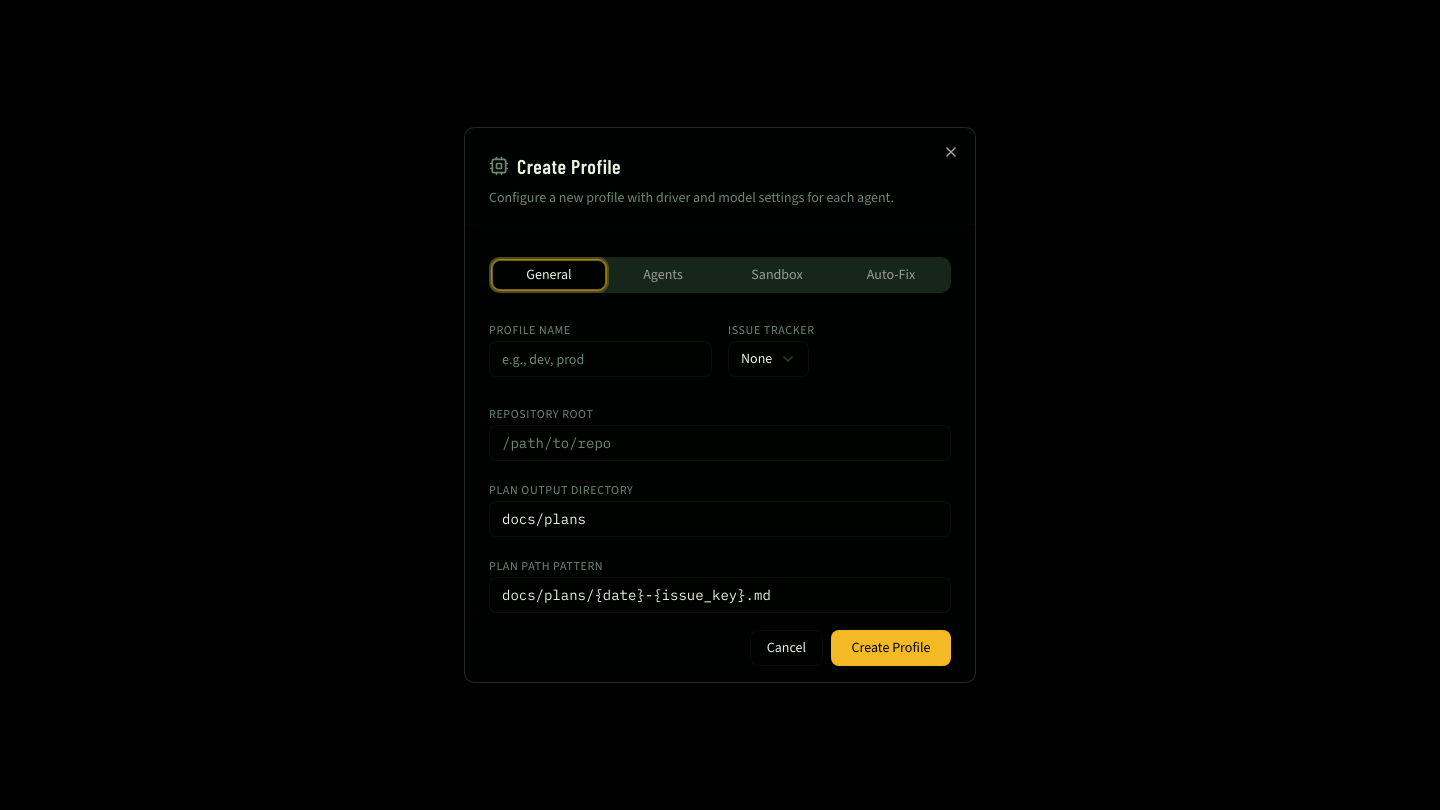
Test: Sandbox tab › should show sandbox mode dropdown defaulting to None
What coordinates should you click on to do the following:
click the tab "Sandbox"
I would click on:
 (777, 275)
Its box is x1=720 y1=260 x2=834 y2=290.
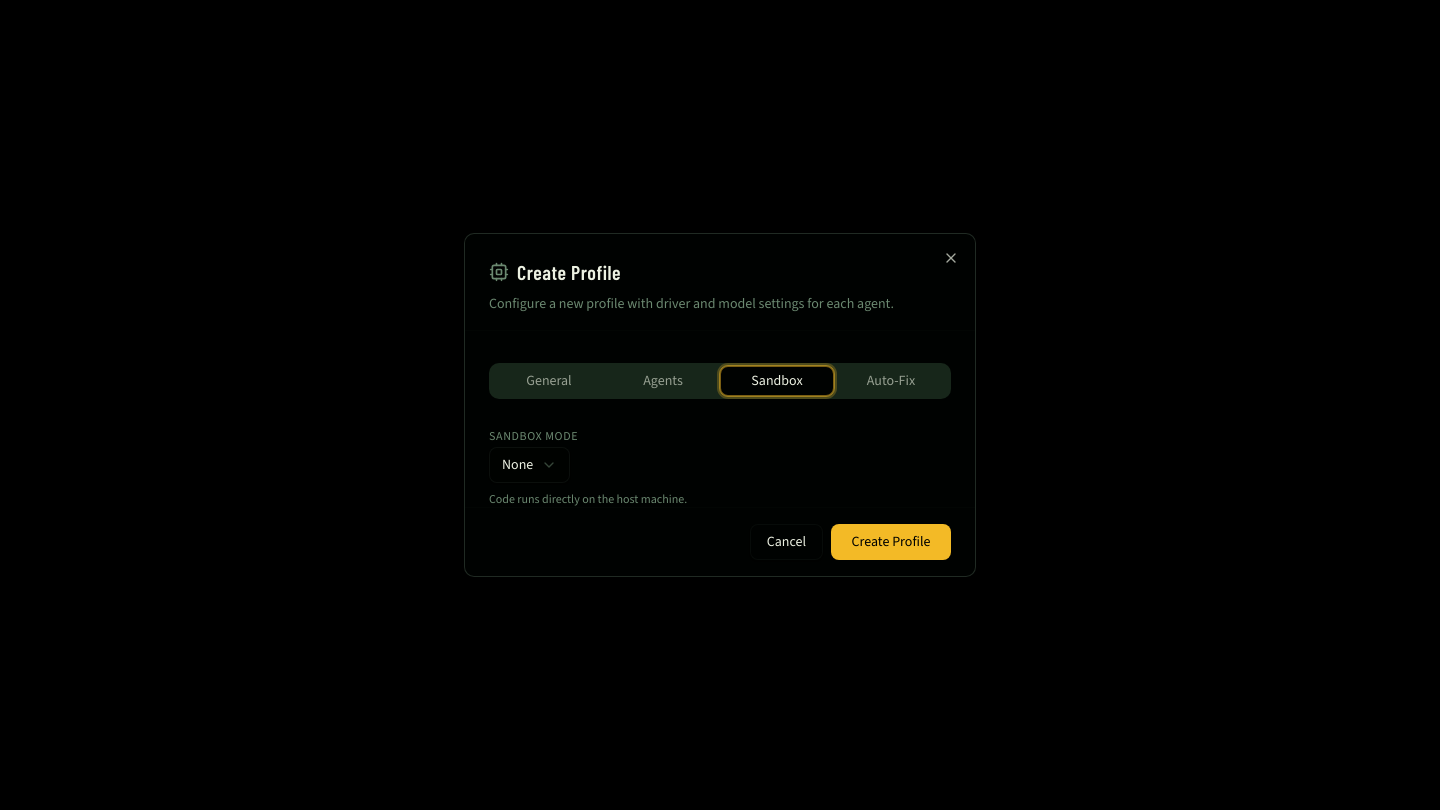
Expected: the text "Code runs directly on the host machine." is shown, x1=489 y1=491 x2=687 y2=507
